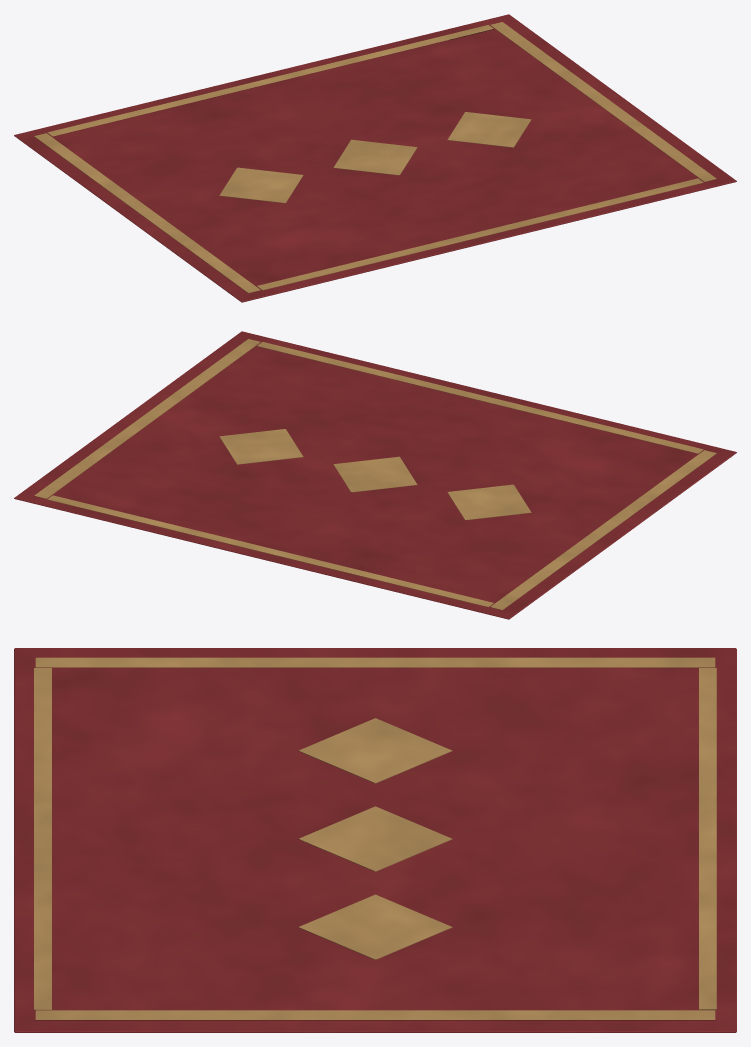
File: Furn_LoungeRug.fbx
The picture shows the model from 3 angles, top to bottom: view 1: azimuth 30°, elevation 25°; view 2: azimuth 150°, elevation 25°; view 3: azimuth 270°, elevation 25°; orthographic projection. The views are drawn at different scales.
Parts seen in each view (by area): view 1: Furn_LoungeRug_Mesh; view 2: Furn_LoungeRug_Mesh; view 3: Furn_LoungeRug_Mesh.
Part boxes in pixels (bbox=[...]): Furn_LoungeRug_Mesh: bbox=[14, 14, 736, 302]; Furn_LoungeRug_Mesh: bbox=[14, 331, 736, 619]; Furn_LoungeRug_Mesh: bbox=[14, 648, 736, 1032].
Size of the model in its own units: 5.9 by 0.02 by 4.7.
2 materials, 2 textured.
